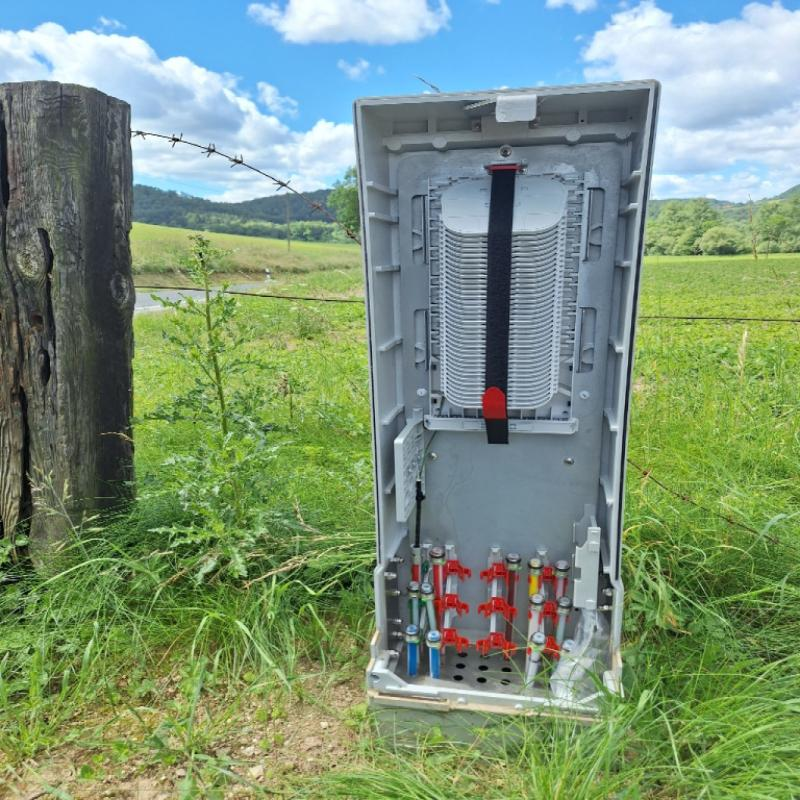NT-Gehause: (354, 99, 646, 713)
Spleiskassetten: (419, 169, 597, 442)
